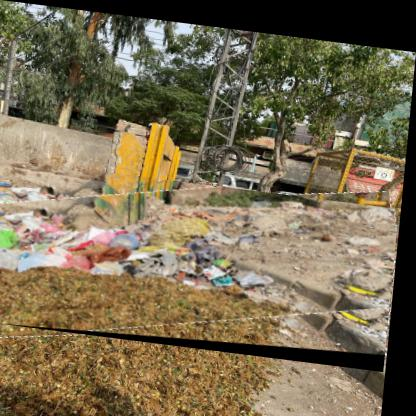Garbage: (1, 158, 404, 363)
